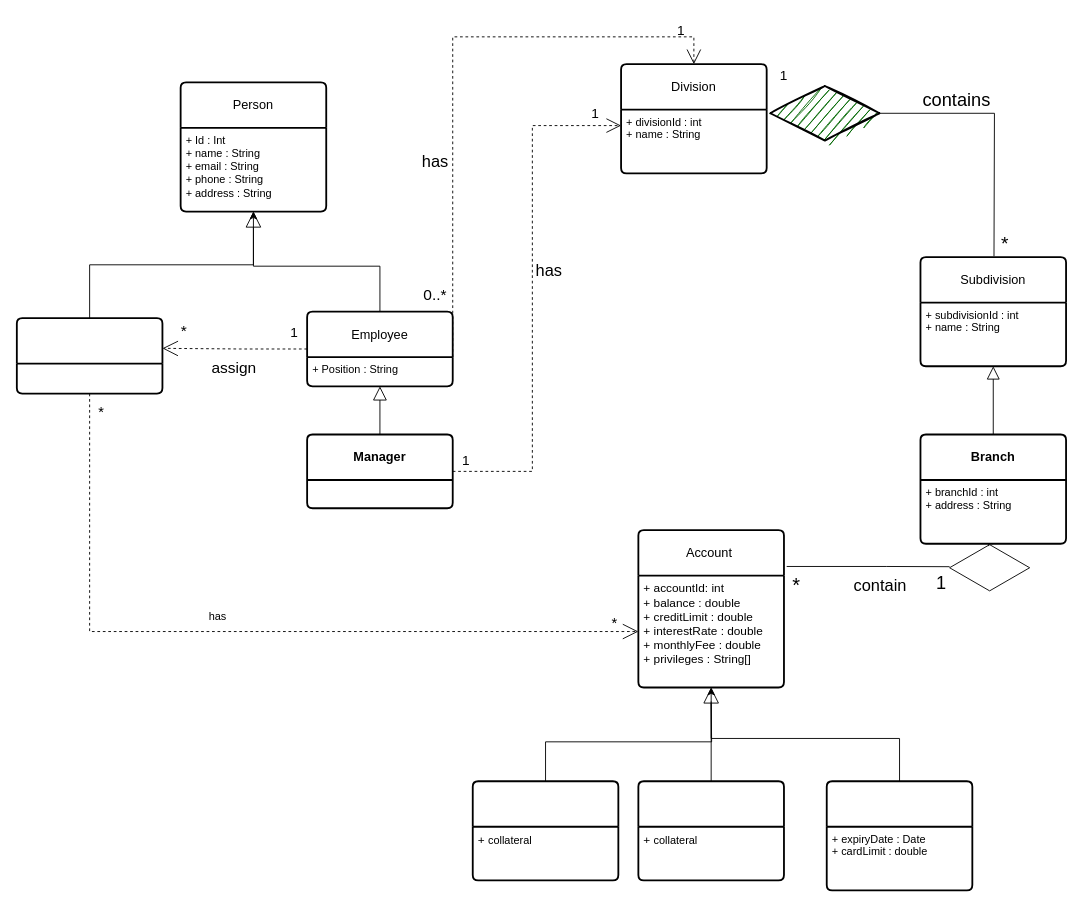
Some shapes in this 1082 by 906 pixel diagram are drawn without their labels. The shapes that lost their labels are listed below. From the top down, each one's box as (x1, y1, x2, y2) in pixels, then its label:
(15, 317, 163, 394): Customer
(471, 780, 619, 881): JointAccount
(637, 780, 784, 881): MortgageAccount
(825, 780, 973, 891): CreditCardAccount
